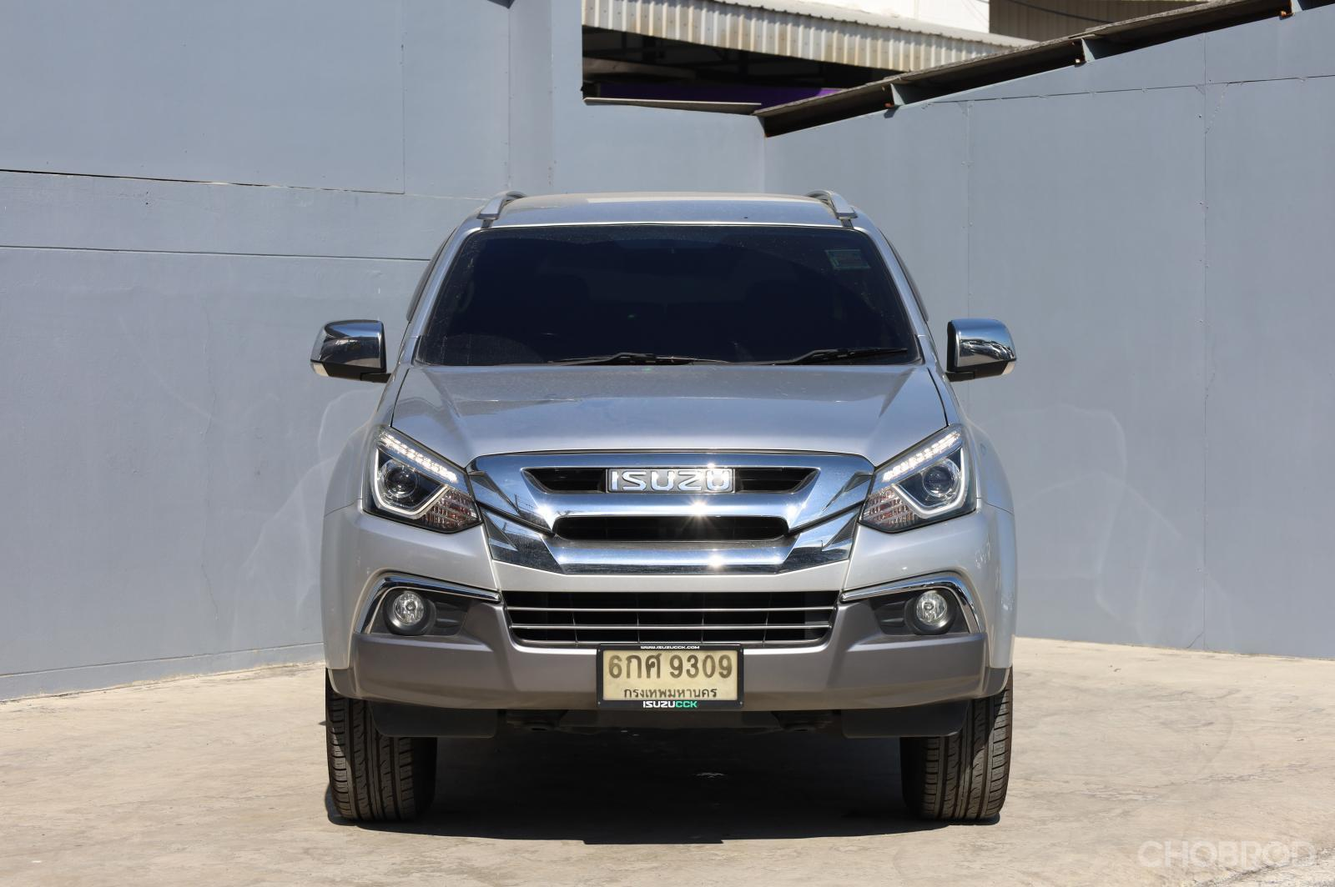license-plate: (596, 643, 746, 712)
